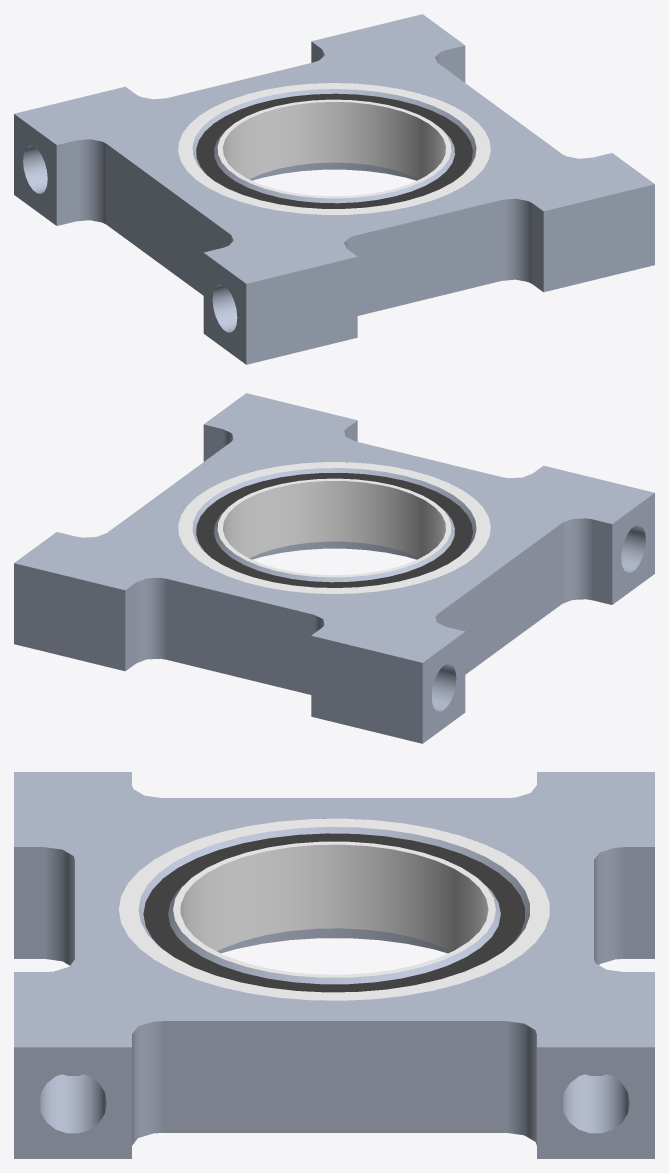
Rendered from ROB-12468.obj.
3 renders of one model, top to bottom at view 1: azimuth 30°, elevation 25°; view 2: azimuth 150°, elevation 25°; view 3: azimuth 270°, elevation 25°, orthographic. The views are drawn at different scales.
Parts seen in each view (by area): view 1: mesh 1 RO, mesh 2 Boss-Extrude2, mesh 3 Boss-Extrude4; view 2: mesh 1 RO, mesh 2 Boss-Extrude2, mesh 3 Boss-Extrude4; view 3: mesh 1 RO, mesh 2 Boss-Extrude2, mesh 3 Boss-Extrude4.
Part boxes in pixels (left/top/right/bottom): mesh 1 RO: left=14, top=14, right=654, bottom=364; mesh 2 Boss-Extrude2: left=178, top=83, right=490, bottom=214; mesh 3 Boss-Extrude4: left=196, top=93, right=472, bottom=208; mesh 1 RO: left=14, top=393, right=654, bottom=743; mesh 2 Boss-Extrude2: left=178, top=462, right=490, bottom=593; mesh 3 Boss-Extrude4: left=196, top=473, right=472, bottom=587; mesh 1 RO: left=14, top=772, right=654, bottom=1158; mesh 2 Boss-Extrude2: left=118, top=818, right=549, bottom=1000; mesh 3 Boss-Extrude4: left=143, top=833, right=524, bottom=992.
Bounding box in the file's own units: 0.0335 × 0.00635 × 0.033.
